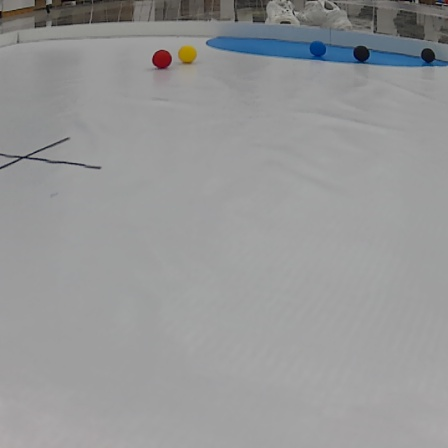black: (352, 45, 371, 63), (421, 45, 437, 64)
blue: (310, 38, 327, 58)
blue_base: (204, 36, 448, 67)
red: (152, 48, 172, 70)
yellow: (178, 45, 198, 64)
